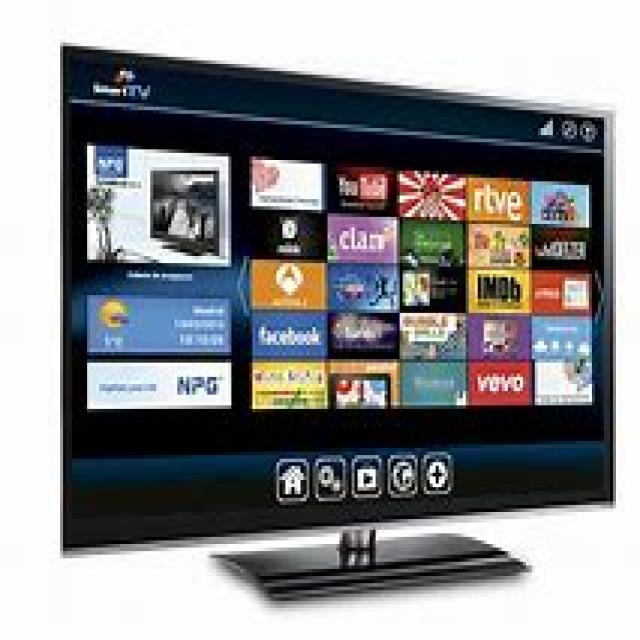tv: (57, 39, 616, 601)
